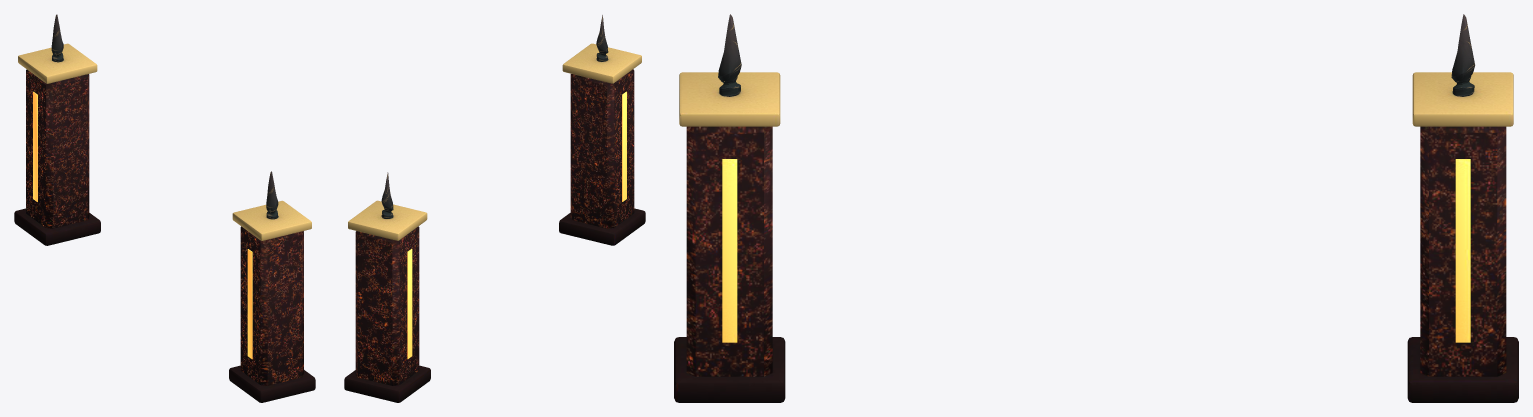
Rendered from gate_fire.glb.
3 renders of one model, left to right at view 1: azimuth 30°, elevation 25°; view 2: azimuth 150°, elevation 25°; view 3: azimuth 270°, elevation 25°, orthographic. The views are drawn at different scales.
Visible parts, largest first — view 1: gate_fire; view 2: gate_fire; view 3: gate_fire.
Boxes of the visible parts, x1,y1,x2,y2 form: gate_fire: [14, 14, 315, 402]; gate_fire: [344, 15, 645, 402]; gate_fire: [674, 14, 1518, 402].
Bounding box in the file's own units: 4.4 × 16.01 × 33.4.
Materials: 3 (3 with a texture image).
